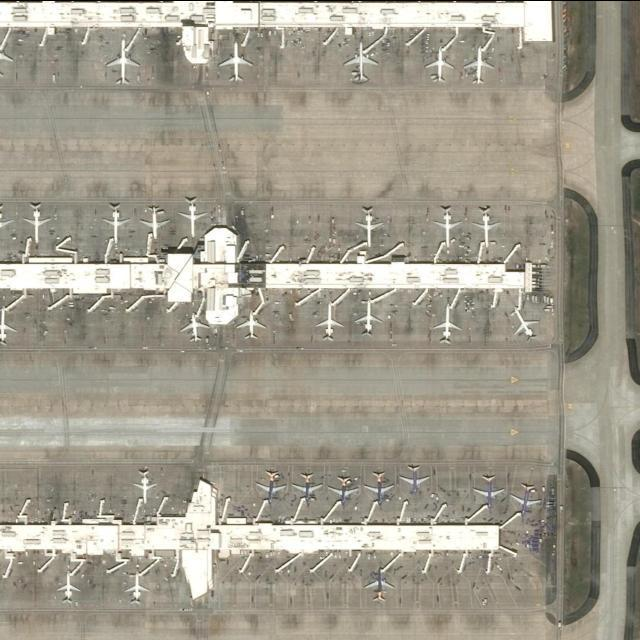Aircraft: (469, 199, 503, 261), (104, 37, 138, 85), (343, 39, 379, 84), (216, 37, 251, 83), (360, 564, 396, 604), (431, 203, 461, 249), (474, 471, 506, 514), (20, 199, 51, 243), (100, 200, 130, 245), (354, 203, 384, 248), (175, 193, 207, 235), (463, 42, 495, 84), (422, 45, 457, 83), (352, 292, 382, 336), (363, 467, 395, 507), (433, 302, 463, 344), (255, 465, 286, 505), (313, 299, 344, 339), (398, 460, 431, 497), (233, 306, 266, 342), (328, 471, 360, 507), (292, 467, 322, 505), (139, 203, 171, 238), (510, 478, 536, 521), (54, 566, 83, 603), (130, 467, 158, 501), (510, 304, 537, 339), (123, 570, 150, 604), (178, 311, 208, 341), (0, 304, 18, 346), (0, 33, 12, 77), (0, 200, 10, 245)
